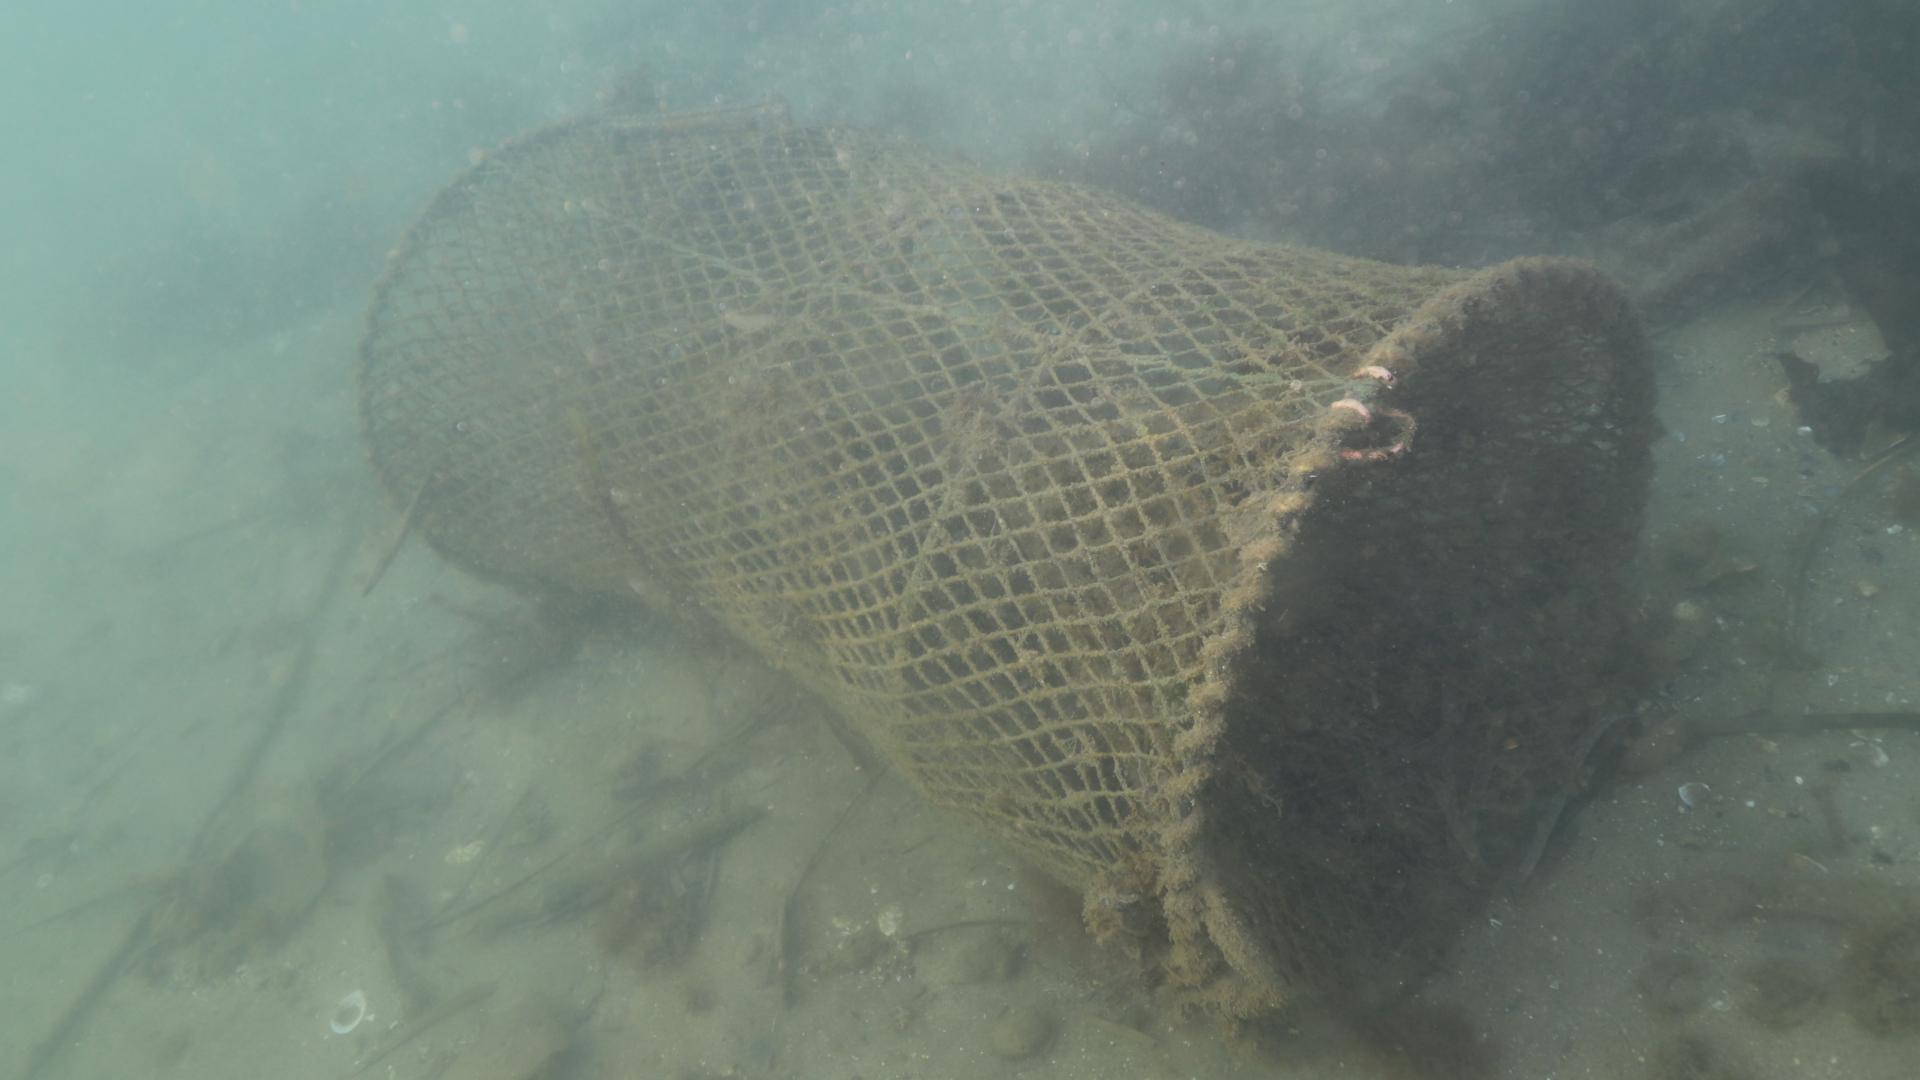spring fish trap: (351, 88, 1658, 1047)
